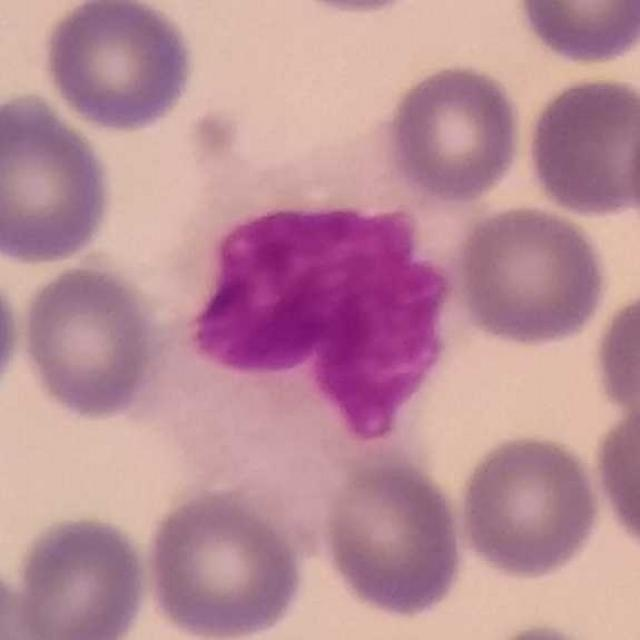Monocyte: (153, 129, 484, 490)
RBC: (316, 451, 470, 623), (142, 484, 310, 640), (14, 259, 167, 424), (449, 202, 610, 348), (453, 429, 604, 582), (37, 0, 199, 135), (378, 59, 526, 206), (0, 89, 118, 268), (7, 510, 154, 640), (521, 72, 640, 222), (511, 0, 640, 68), (590, 394, 640, 563), (589, 280, 640, 431), (0, 262, 24, 416), (474, 619, 621, 640), (274, 0, 440, 18)
